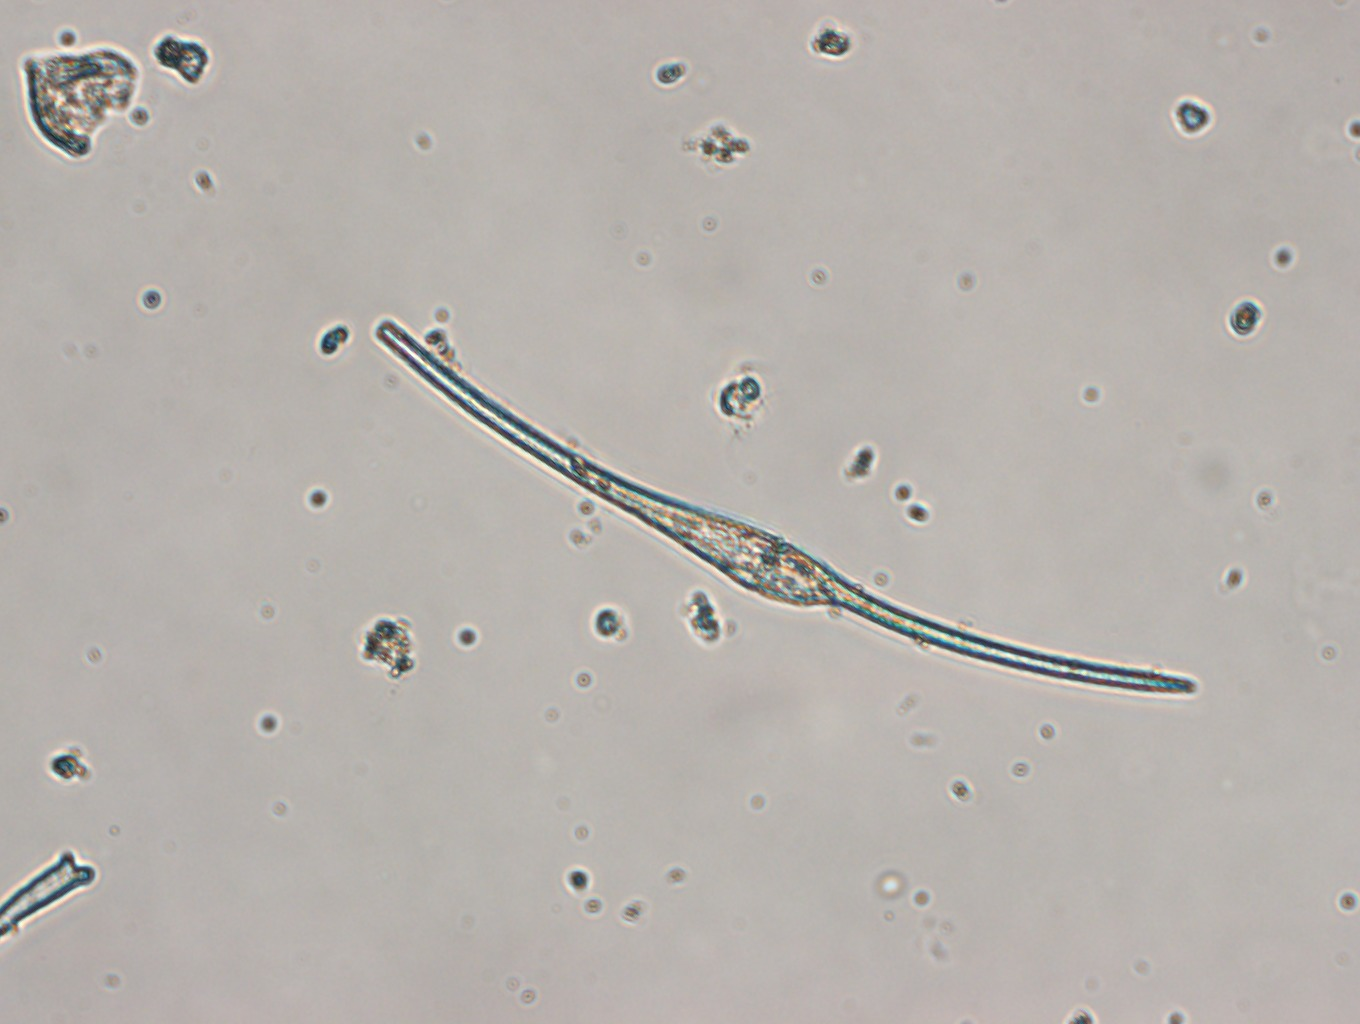ceratium fusus: (371, 307, 1214, 701)
